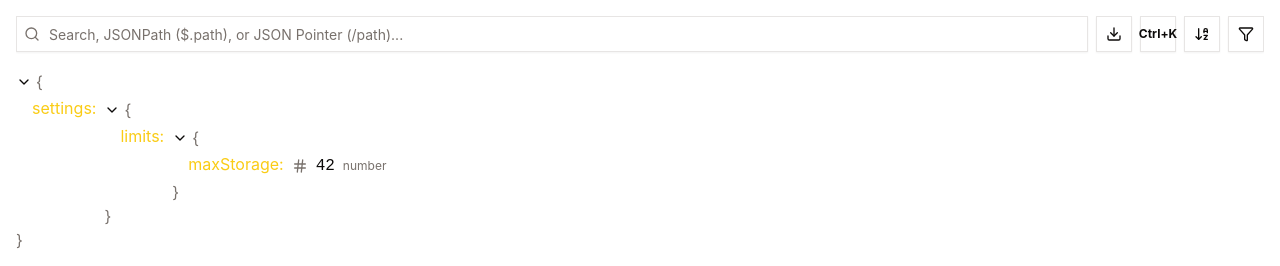
Scenario: keyboard navigation and focus › a manually collapsed branch stays collapsed
Check: the text "42" is shown, box [316,154,335,178]
Note: Collapse the root by hand while the focused path still runs through it.
What coordinates should you click on to do the following:
click the 1st button named "Collapse object"
I would click on:
 (24, 82)
Its box is [16,74,32,90].
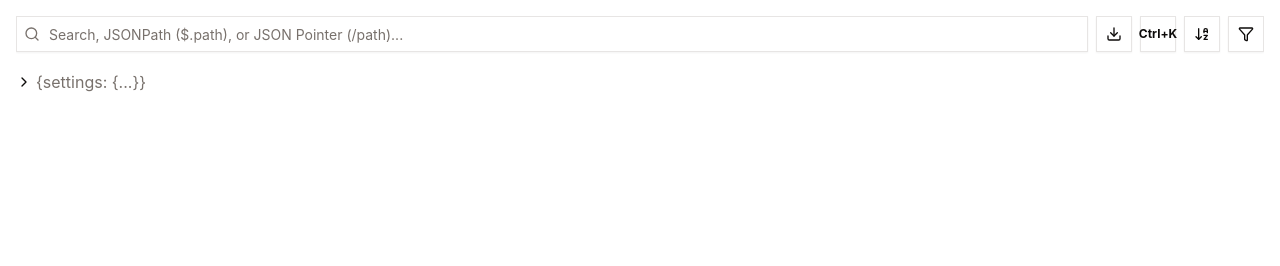
Check: the text "42" is gone
Check: the button named "Expand object" is shown, box [16,74,32,90]
